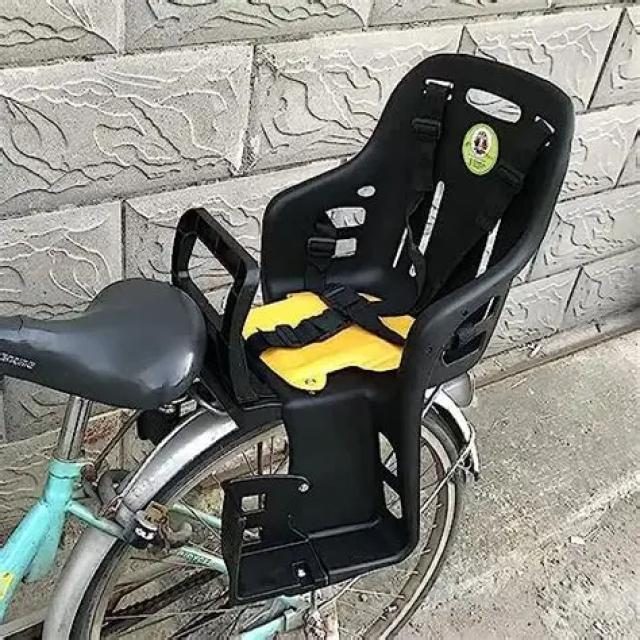childseat: (170, 53, 580, 613)
